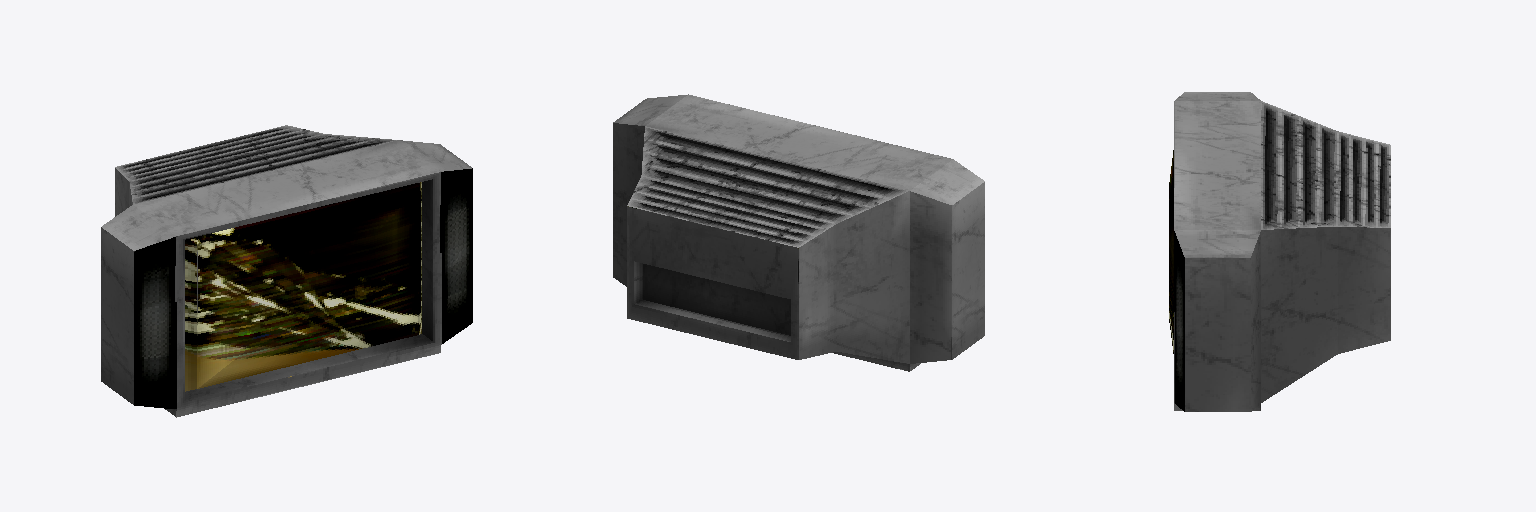
3 renders of one model, left to right at view 1: azimuth 30°, elevation 25°; view 2: azimuth 150°, elevation 25°; view 3: azimuth 270°, elevation 25°, orthographic.
Visible parts, largest first — view 1: CRT_TV_Cube.017; view 2: CRT_TV_Cube.017; view 3: CRT_TV_Cube.017.
Part boxes in pixels (left/top/right/bottom): CRT_TV_Cube.017: left=101, top=125, right=472, bottom=417; CRT_TV_Cube.017: left=613, top=94, right=984, bottom=371; CRT_TV_Cube.017: left=1169, top=92, right=1390, bottom=411.
Size of the model in its own units: 4.36 by 2.22 by 2.46.
1 materials, 1 textured.